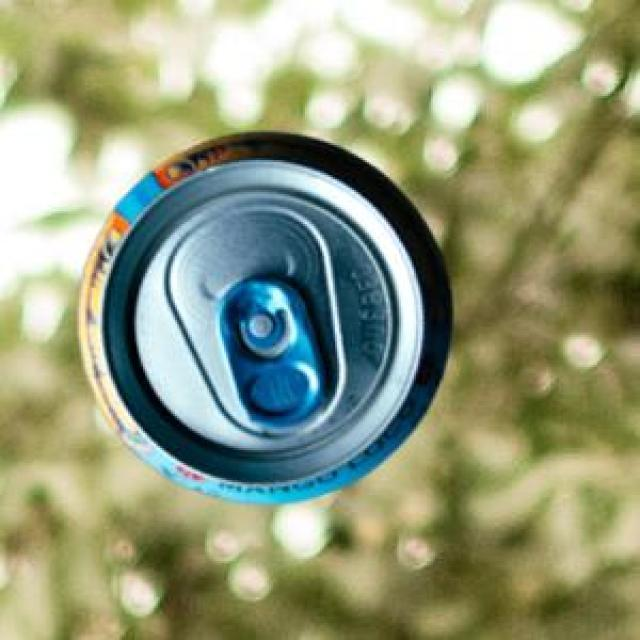Can: (76, 129, 449, 500)
